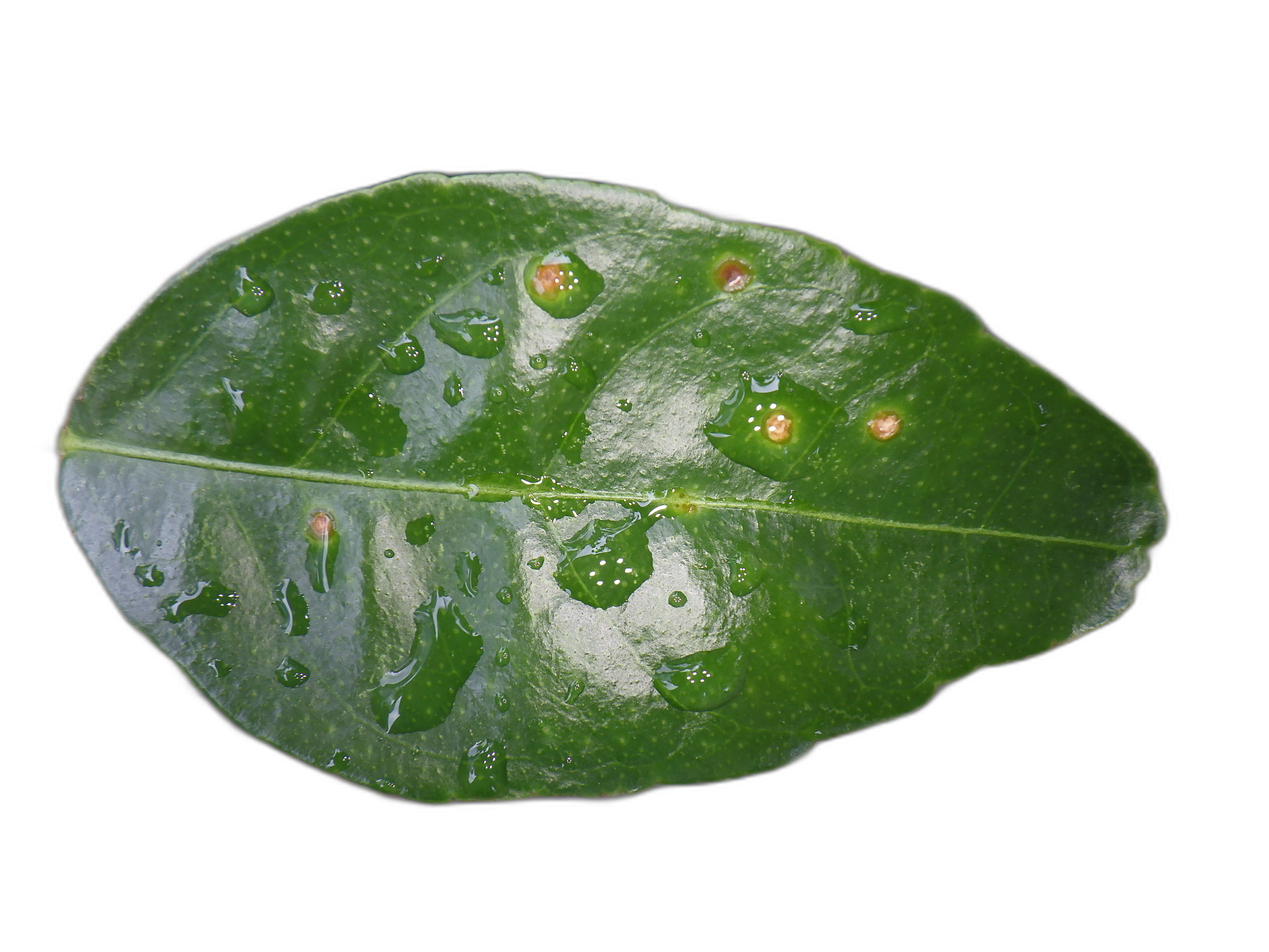Canker: (866, 411, 901, 441), (765, 413, 793, 445), (536, 265, 563, 296), (721, 263, 745, 288), (311, 512, 331, 537)
